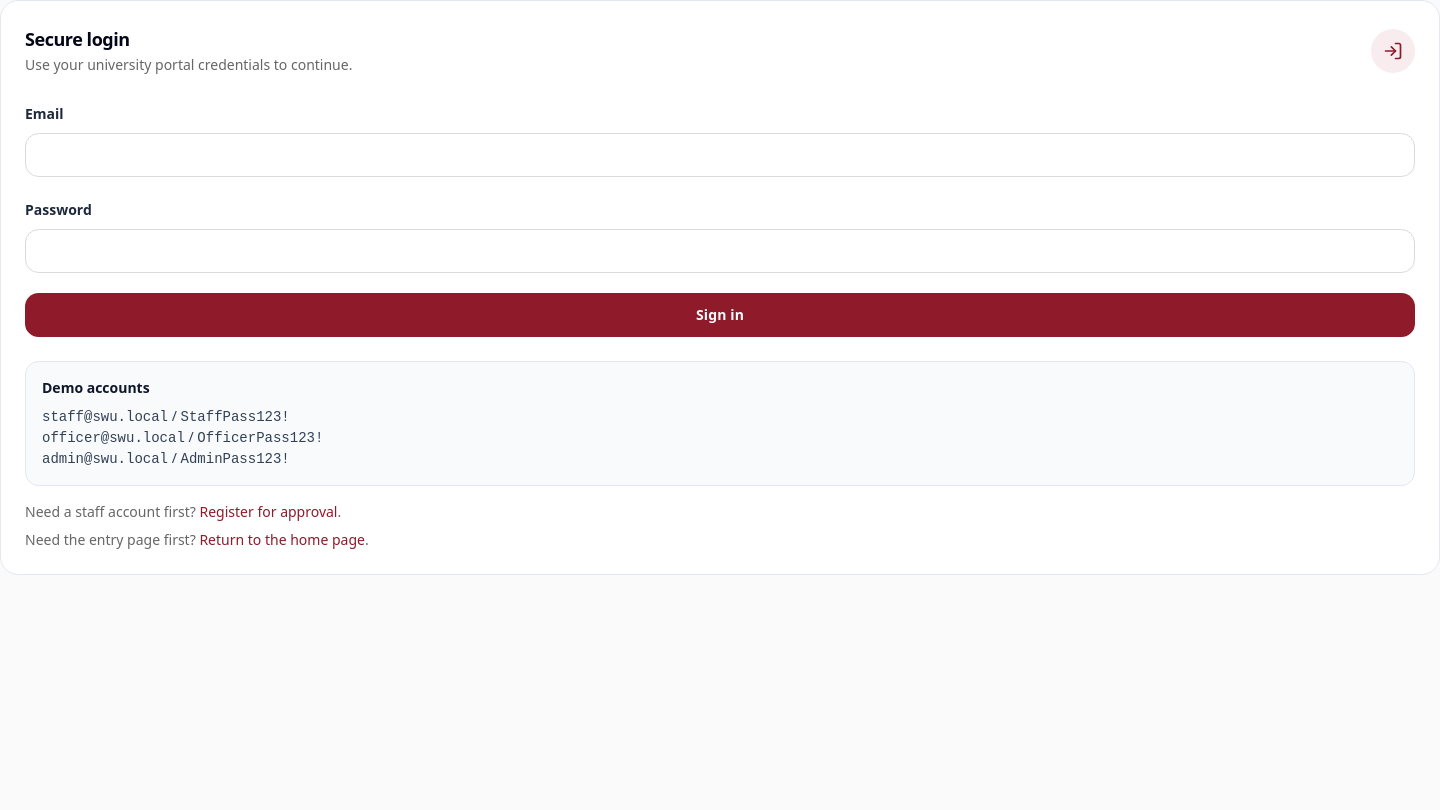
LoginForm › shows a stable temporary error when signIn throws
This screenshot has width=1440, height=810.
Type "staff@swu.local" into the field labelled "Email" at (720, 155), box [25,133,1415,177]
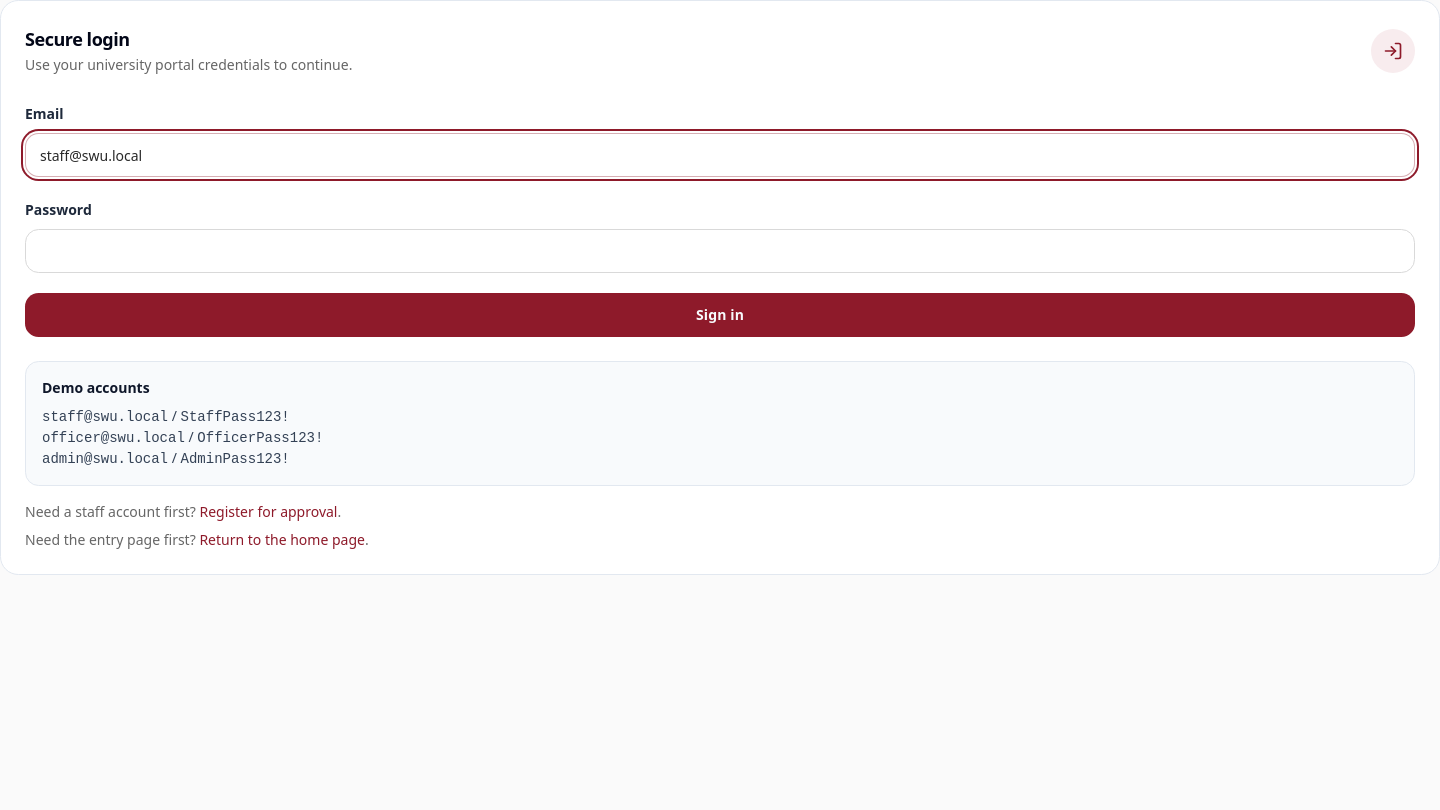
Type "StaffPass123!" into the password field labelled "Password" at (720, 251), box [25,229,1415,273]
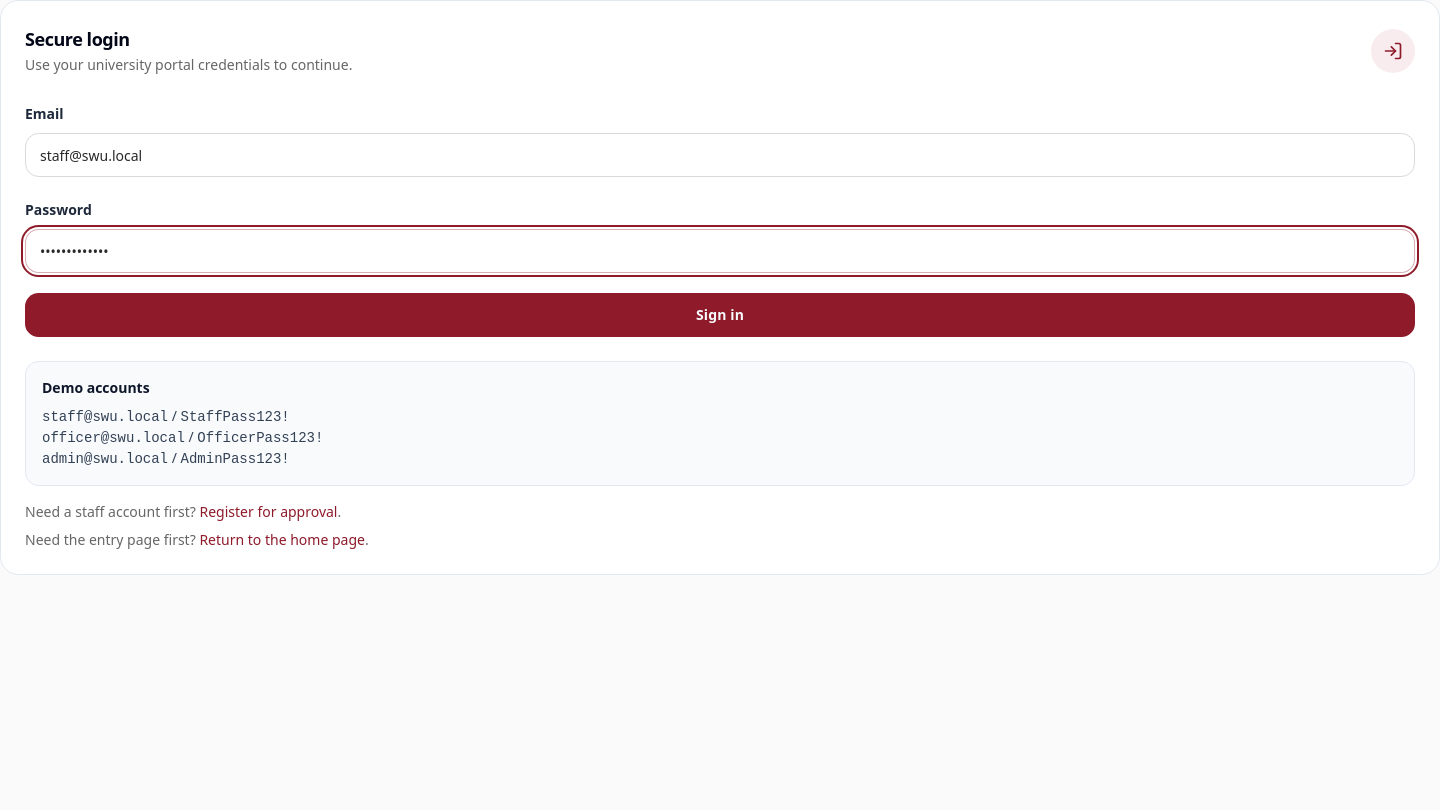
Click the button "Sign in" at (720, 315), box [25,293,1415,337]
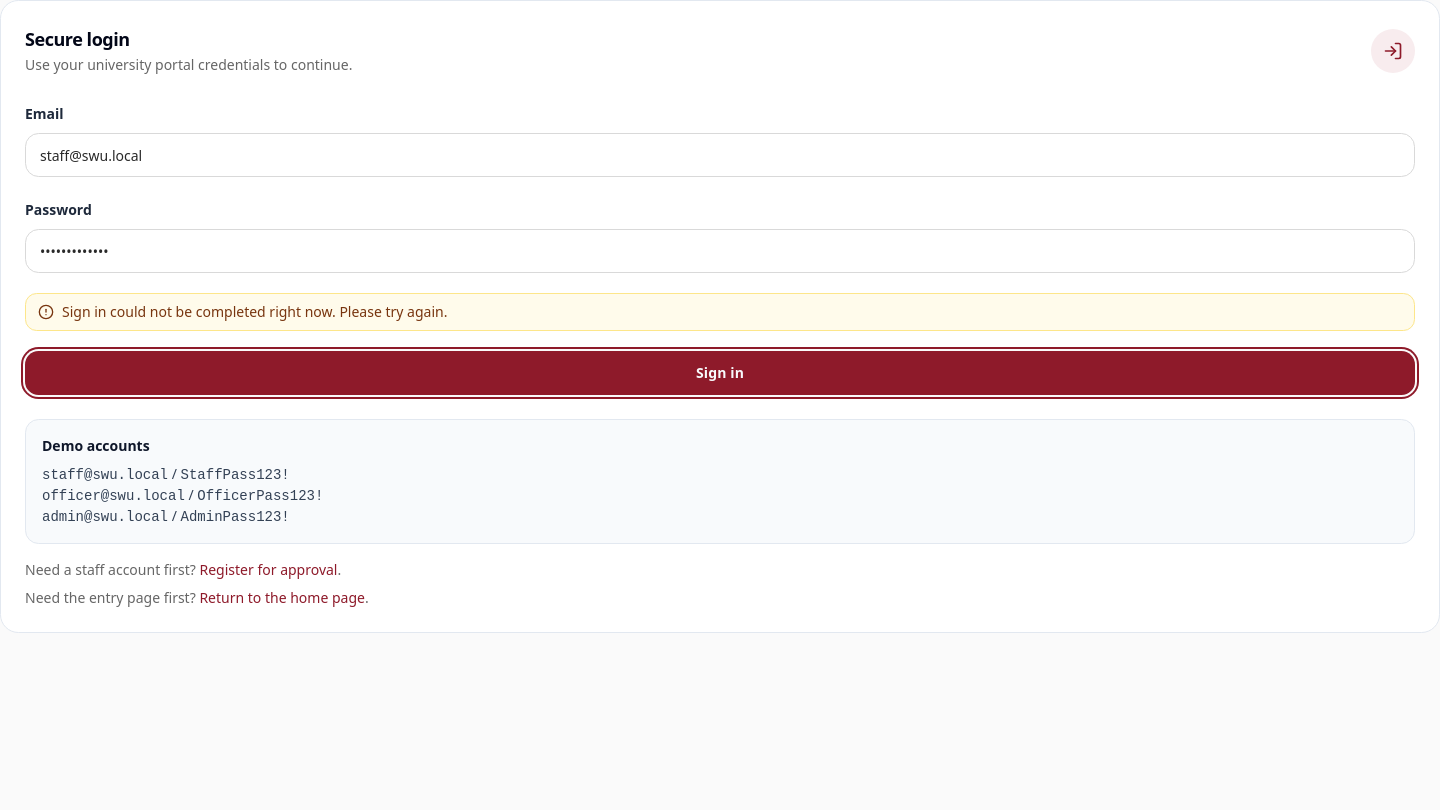
Now the text "Sign in could not be completed right now. Please try again." is shown, box [62,302,447,322]
